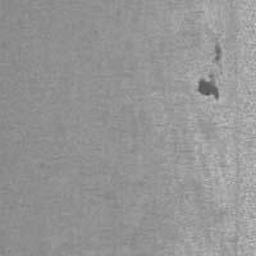Inclusion: (196, 73, 221, 102), (210, 38, 224, 65)
